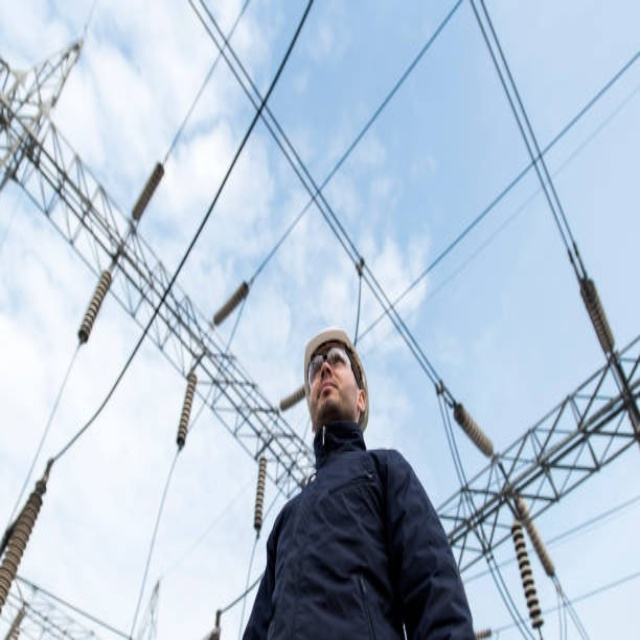Gafas: (307, 346, 360, 387)
Sin_mascara: (316, 373, 339, 401)
